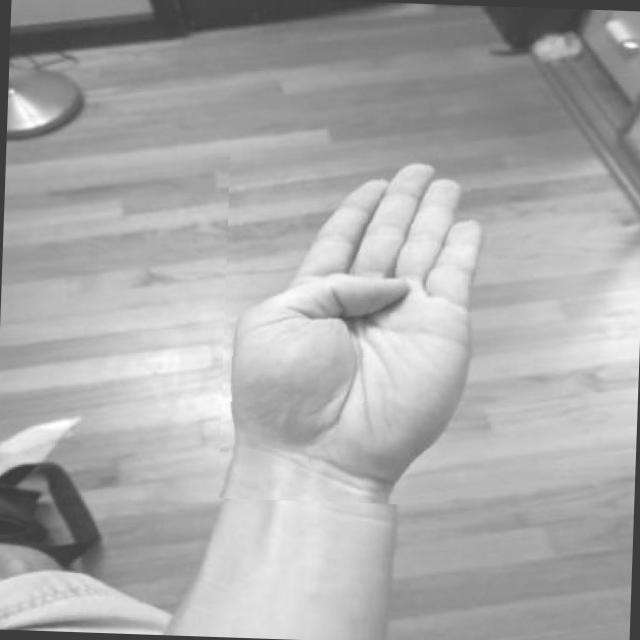B: (218, 147, 495, 507)
